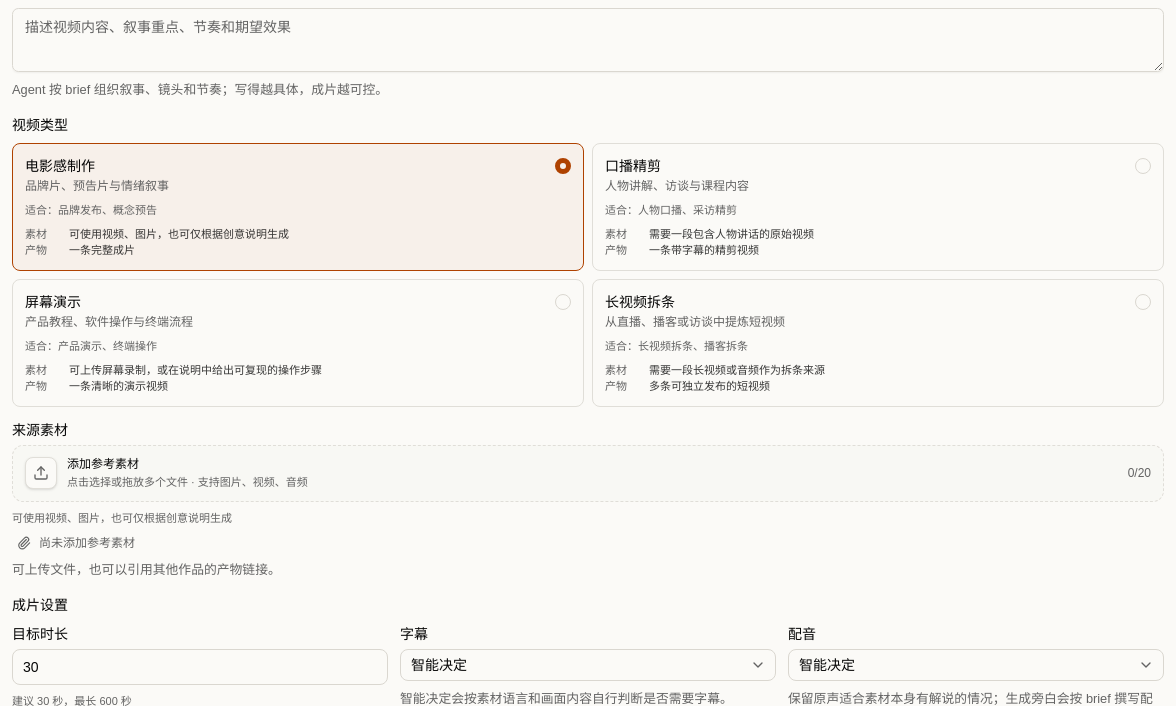
Test case: MontageCreationPanel › fills the untouched catalog default and selects a video type with dynamic output copy
expect the radio button labelled "电影感制作" is checked: met, box [12, 143, 584, 271]
Click the radio button labelled "长视频拆条". click: (640, 302)
box: [592, 279, 1164, 407]
(page scrolled)
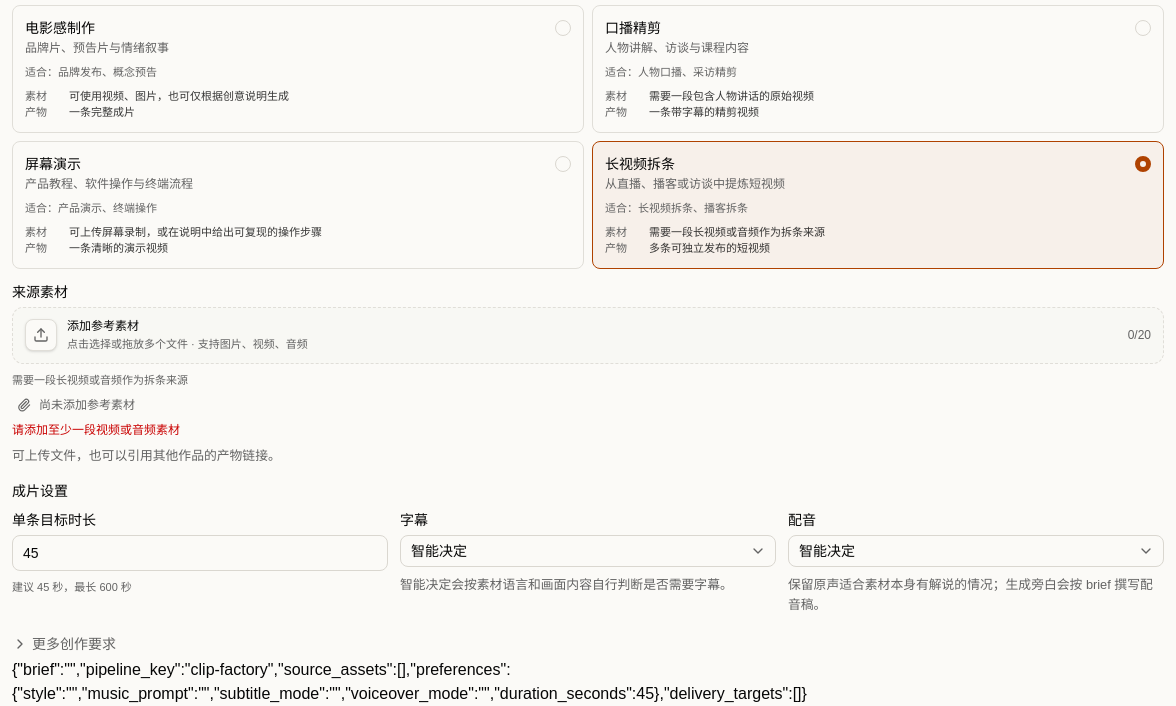
expect the radio button labelled "长视频拆条" is checked: met, box [592, 141, 1164, 269]
expect the text "单条目标时长" is shown: met, box [12, 512, 96, 528]
expect the text with test id "montage-input" shows "\"pipeline_key\":\"clip-factory\"": met, box [12, 661, 807, 702]
